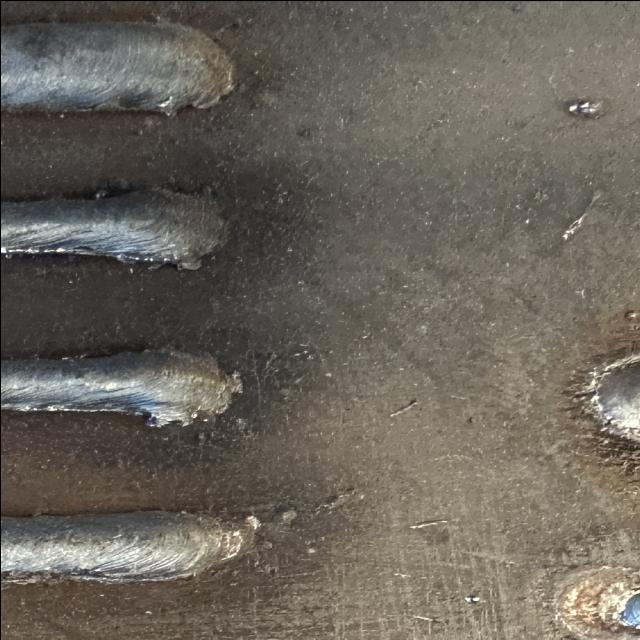Excess Reinforcement: (205, 371, 242, 415), (578, 387, 602, 419), (142, 412, 170, 426), (175, 255, 200, 269), (178, 416, 193, 425)
Spatters: (567, 99, 602, 118), (388, 399, 417, 416), (408, 519, 448, 528), (623, 310, 637, 320), (463, 595, 478, 602)
